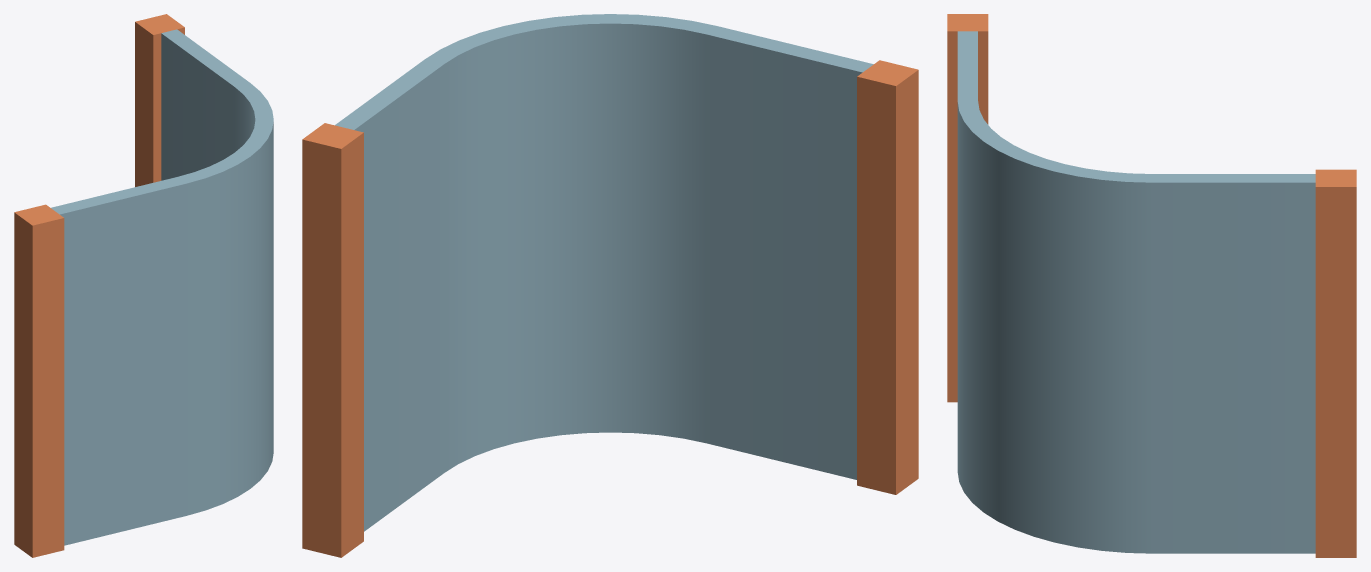
The model's file is wallRounded.fbx.
The picture shows the model from 3 angles, left to right: view 1: azimuth 30°, elevation 25°; view 2: azimuth 150°, elevation 25°; view 3: azimuth 270°, elevation 25°; orthographic projection. The views are drawn at different scales.
Parts seen in each view (by area): view 1: wallRounded; view 2: wallRounded; view 3: wallRounded.
Part boxes in pixels (bbox=[...]): wallRounded: bbox=[14, 14, 273, 557]; wallRounded: bbox=[302, 14, 918, 557]; wallRounded: bbox=[947, 14, 1356, 557].
Bounding box in the file's own units: 10 × 10 × 10.
